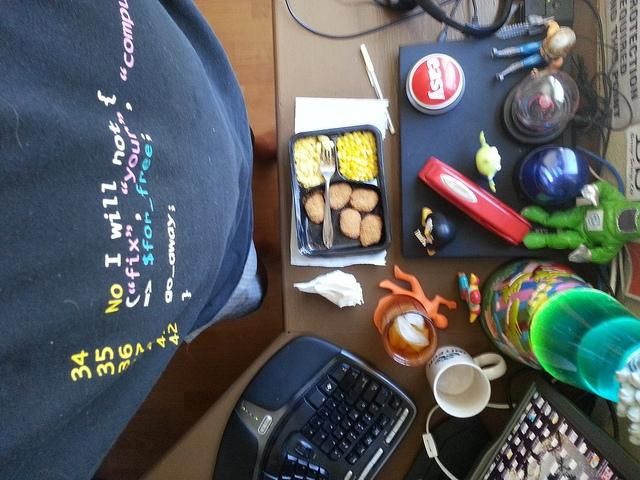corn: (367, 131, 374, 138), (356, 138, 362, 145), (372, 148, 378, 154), (346, 169, 352, 175), (366, 146, 372, 152), (341, 143, 345, 148), (367, 174, 373, 177), (355, 156, 359, 159), (364, 158, 367, 160)
